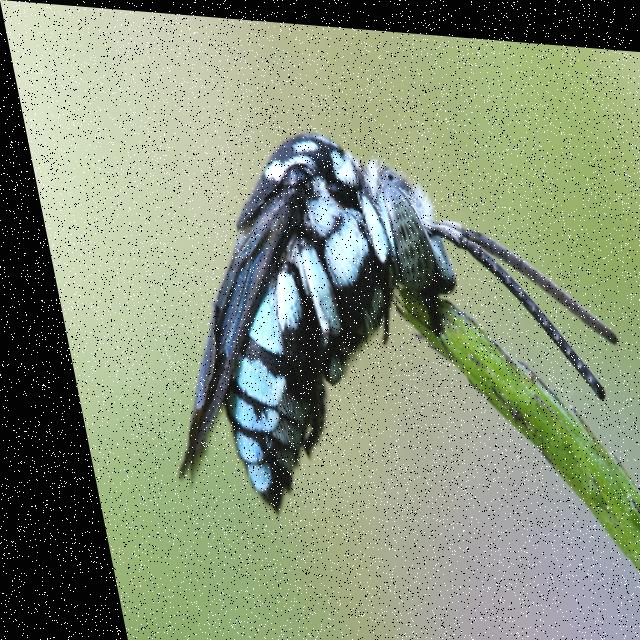Thyreus: (92, 94, 640, 551)
